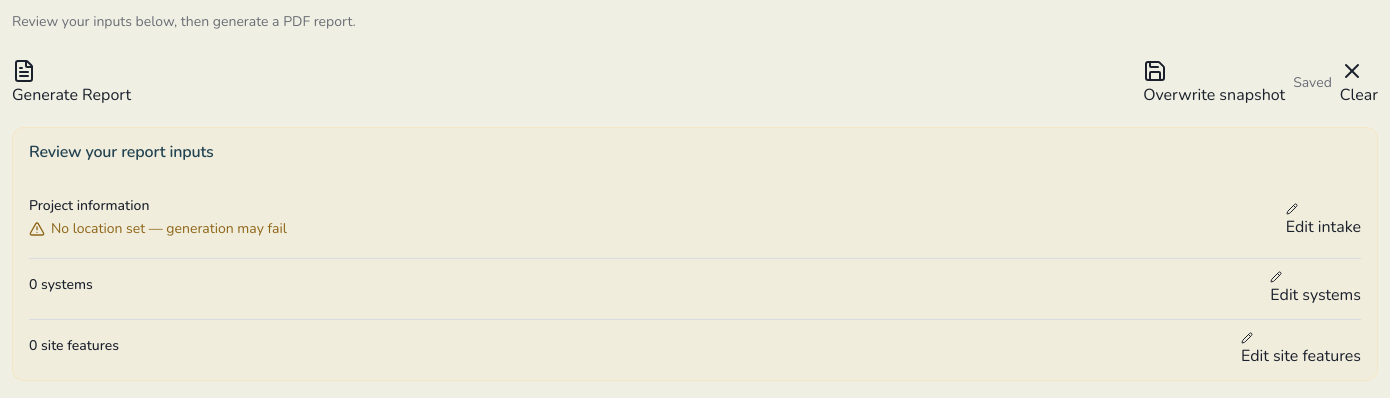
it: ReportCard tests › snapshot save (debug mode) › Clear removes the snapshot from localStorage
The width and height of the screenshot is (1390, 398).
Click the button "Clear" at (1359, 83), box x1=1340 y1=59 x2=1378 y2=107
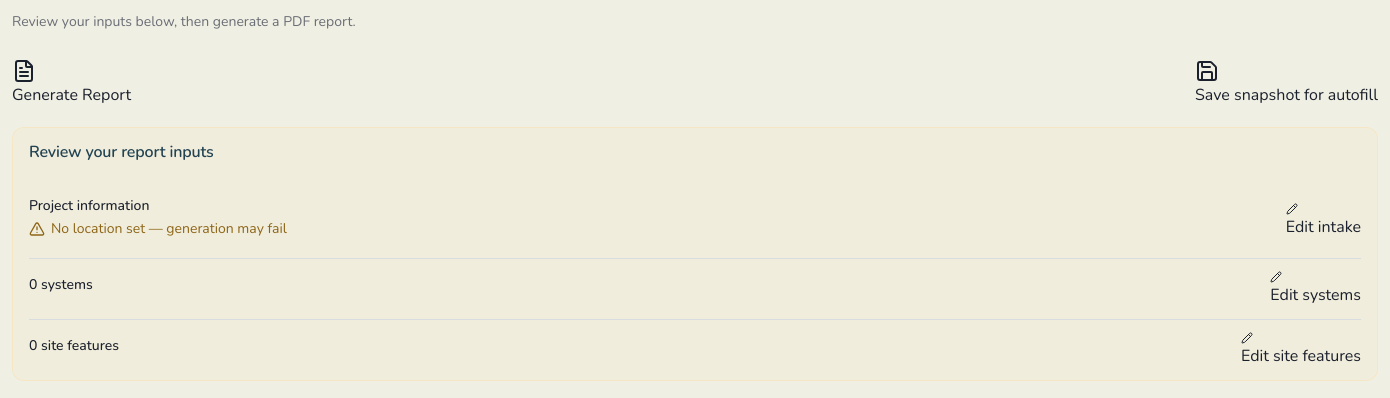
Expected: the button "Clear" is gone
